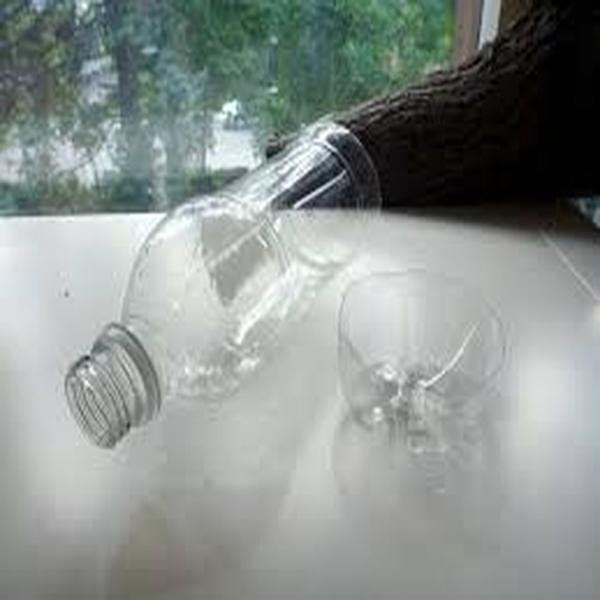tutuma: (41, 103, 390, 461)
